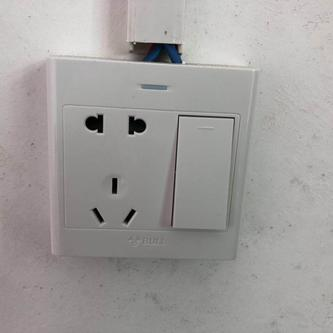switch: (170, 110, 240, 235)
